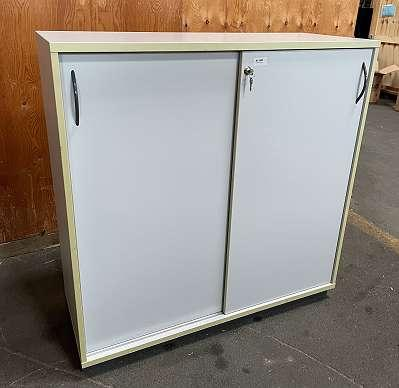cabinet_door: (67, 52, 228, 332), (233, 55, 356, 298)
handle: (69, 66, 85, 130), (353, 61, 371, 106)
